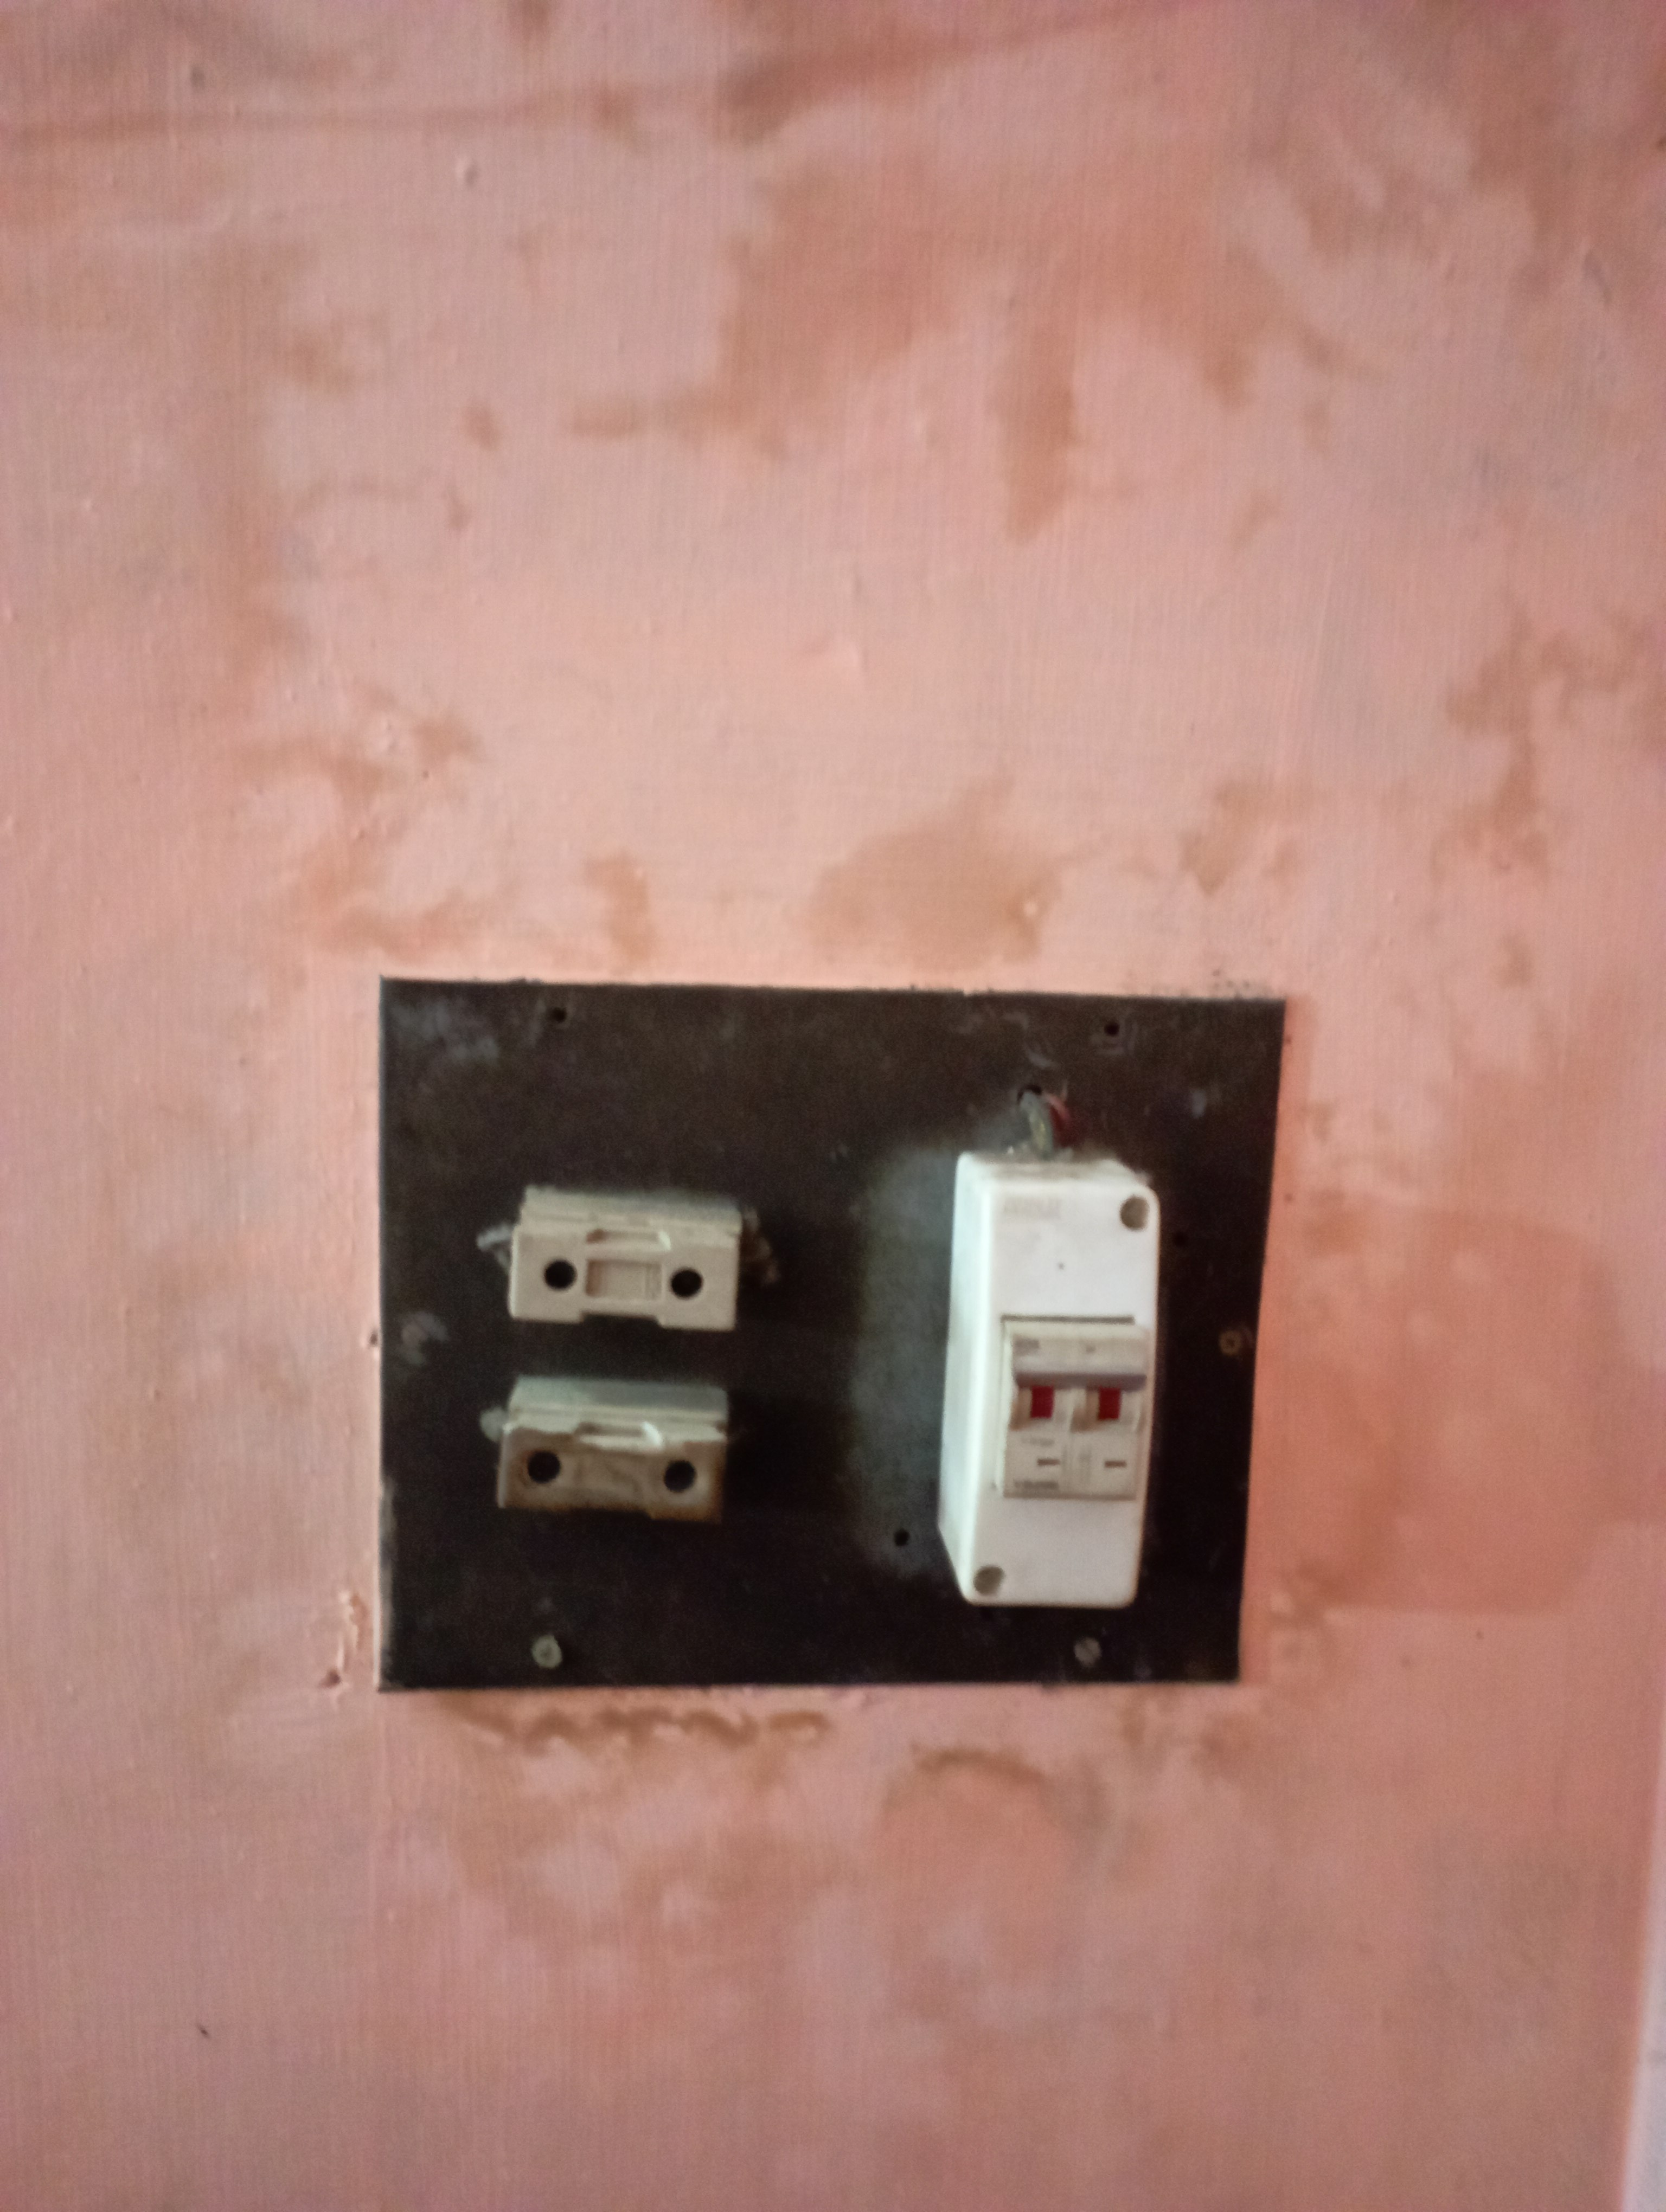ciruit_breaker: (929, 1151, 1181, 1617)
fuse: (453, 1374, 793, 1520), (476, 1168, 775, 1325)
